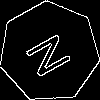N: (24, 27, 81, 80)
